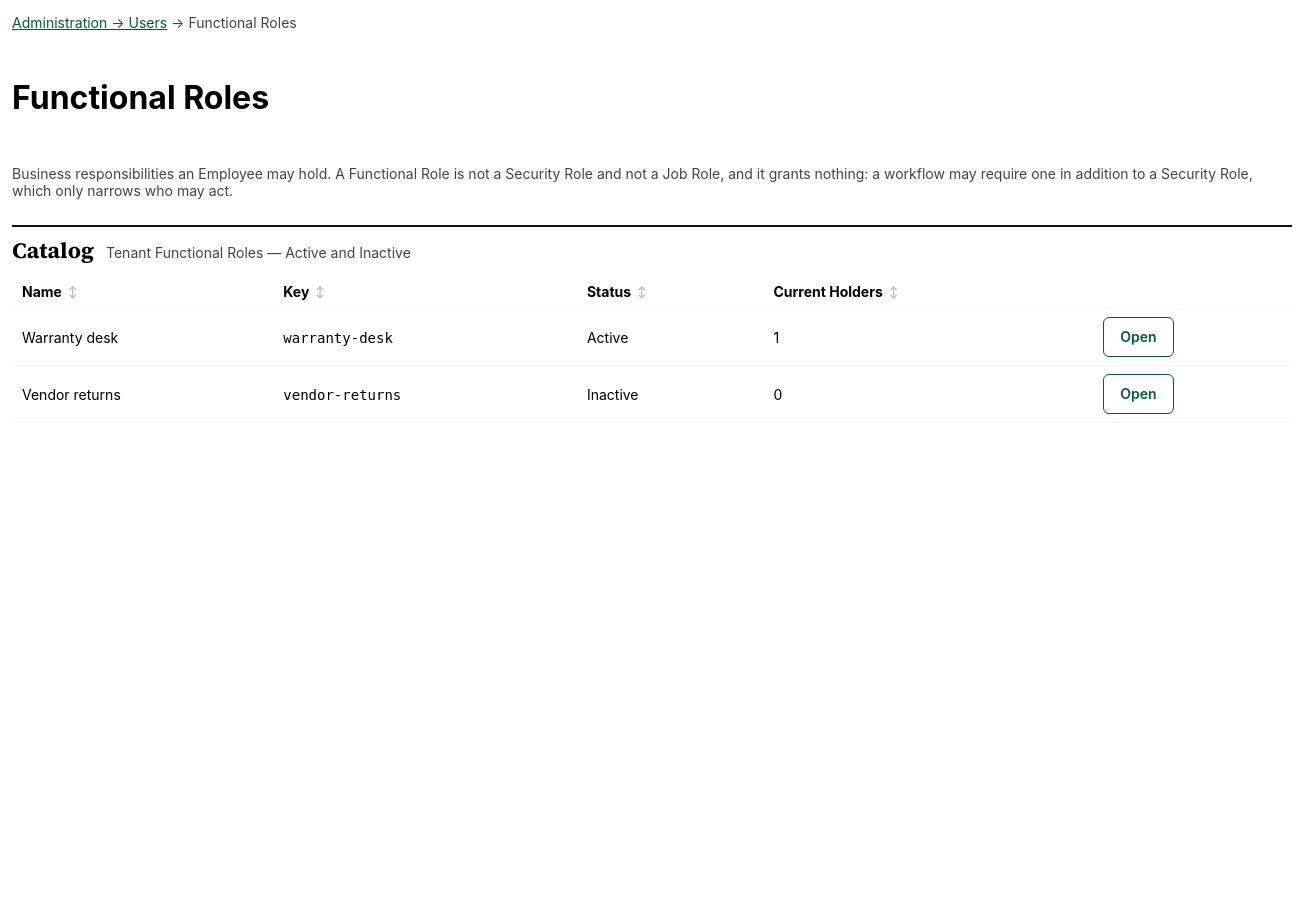
Scenario: Administration > Users > Functional Roles › offers no write control to a caller the Workforce capability read does not name
This screenshot has width=1304, height=900.
Expected: the table is shown, left=12, top=275, right=1292, bottom=423
Click the button with aria-label "Open warranty-desk".
click(1138, 337)  # box left=1103, top=317, right=1174, bottom=357
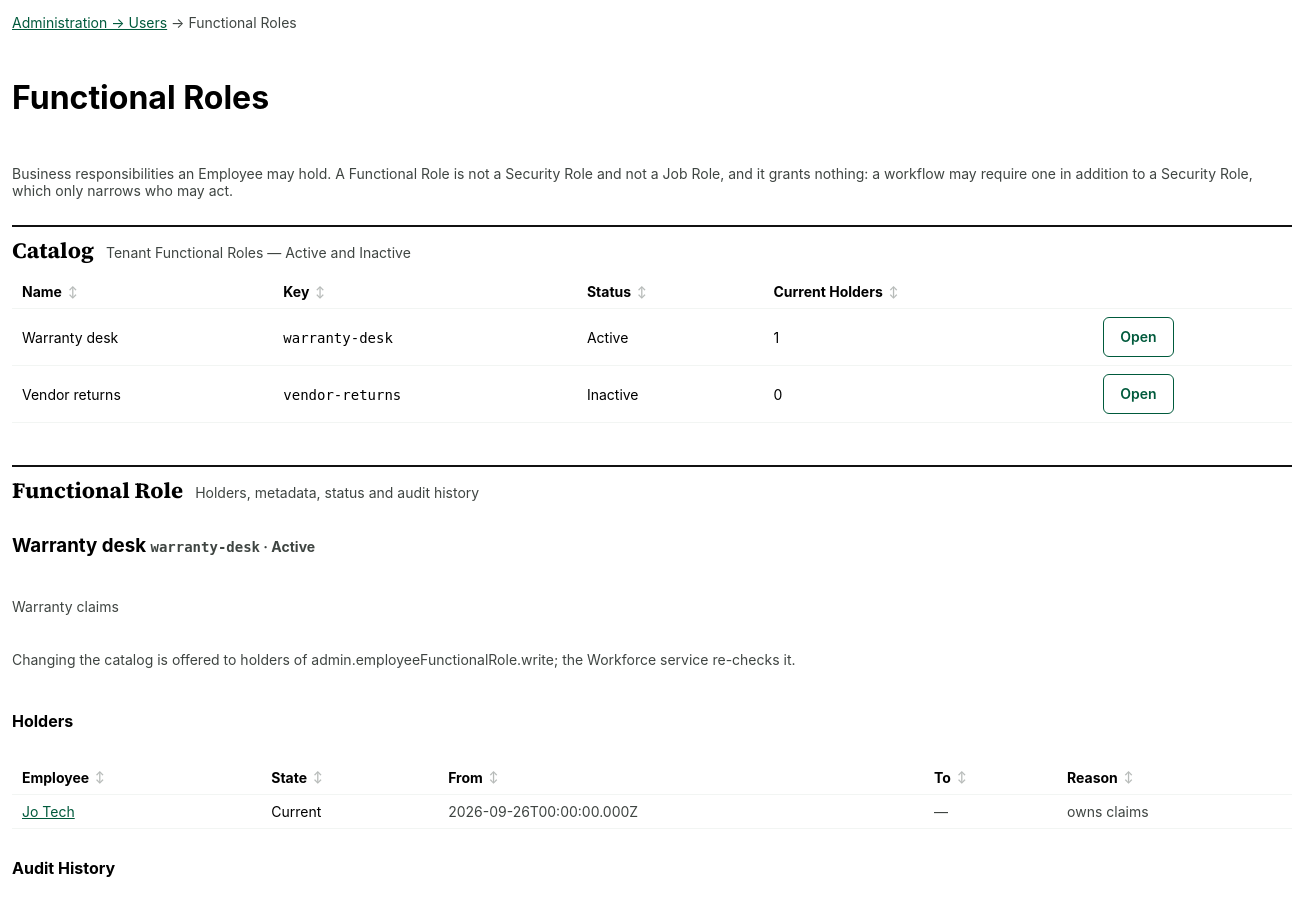
Now the table named "Functional Role holders" is shown, box left=12, top=761, right=1292, bottom=829
